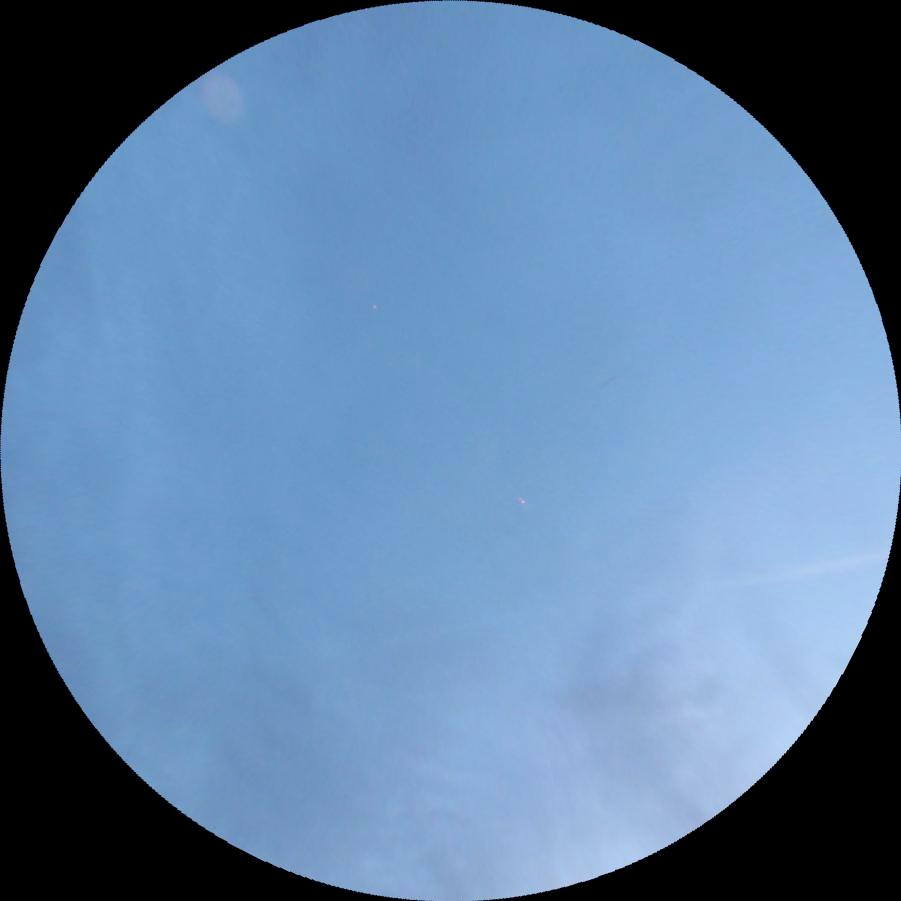contrail old: (372, 545, 890, 643)
